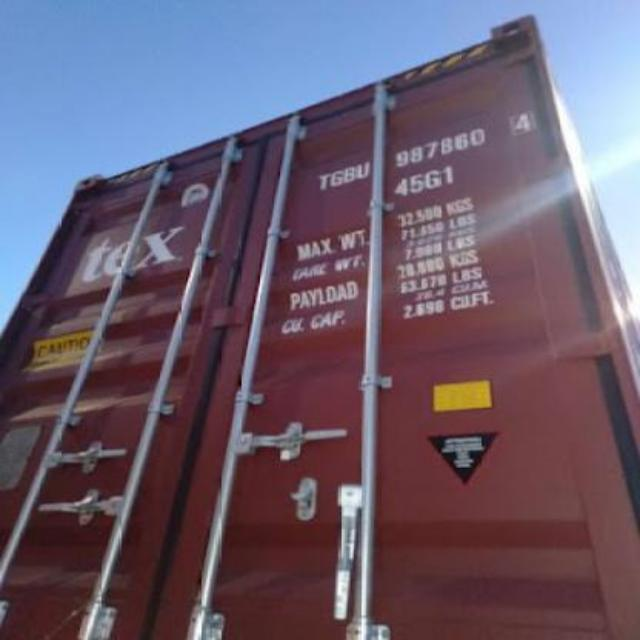0: (468, 129, 488, 147)
4: (508, 116, 532, 132)
6: (454, 132, 470, 152)
7: (424, 141, 440, 159)
8: (408, 146, 424, 164), (441, 136, 454, 154)
9: (394, 150, 410, 168)
B: (342, 166, 356, 180)
G: (328, 170, 346, 186)
T: (316, 174, 329, 190)
U: (356, 162, 374, 178)
